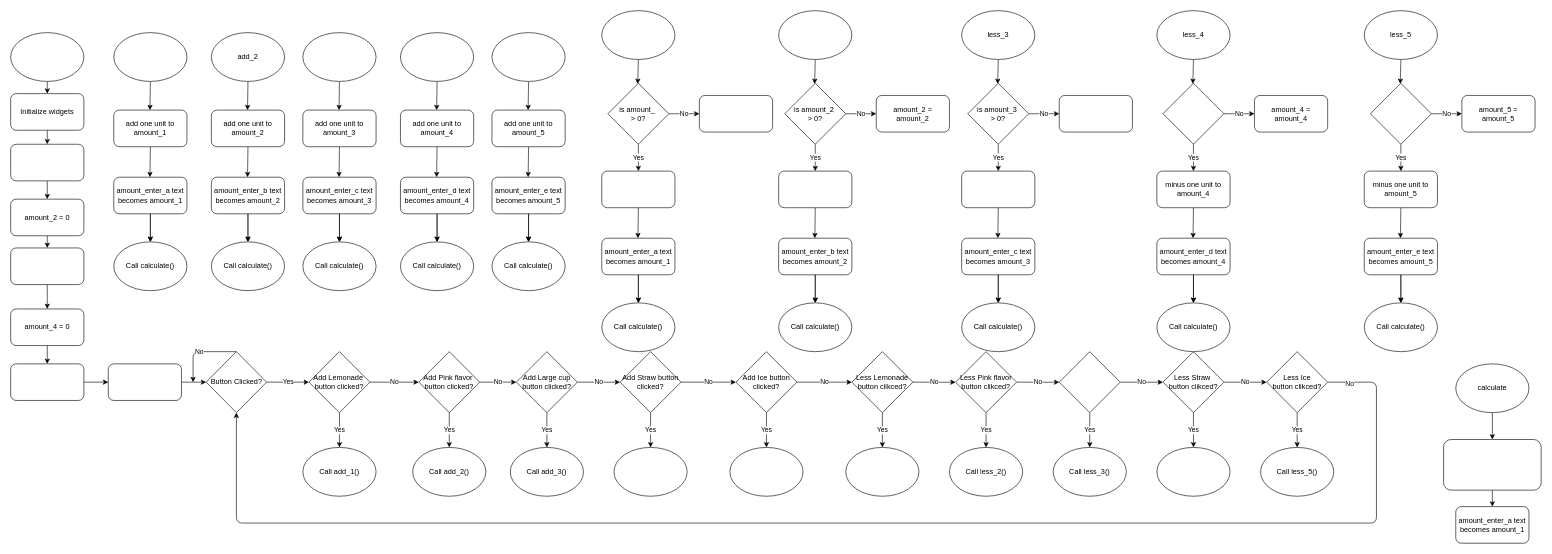
Some shapes in this 1552 by 554 pixel diagram are drawn without their labels. Here are the shapes that lost their labels. From the top down, the centre of each, then its label:
At pixel 638 34: "less_1".
At pixel 815 34: "less_2".
At pixel 47 56: "Start".
At pixel 150 56: "add_1".
At pixel 339 56: "add_3".
At pixel 437 56: "add_4".
At pixel 528 56: "add_5".
At pixel 736 113: "amount_ 1 = amount_1".
At pixel 1095 113: "amount_3 = amount_3".
At pixel 1193 113: "is amount_4 > 0?".
At pixel 1400 113: "is amount_5 > 0?".
At pixel 47 162: "amount_1 = 0".
At pixel 638 189: "minus one unit to amount_1".
At pixel 815 189: "minus one unit to amount_2".
At pixel 998 189: "minus one unit to amount_3".
At pixel 47 266: "amount_3 = 0".
At pixel 47 381: "amount_5 = 0".
At pixel 144 381: "total = 0".
At pixel 1089 382: "Less Large cup button clikced?".
At pixel 650 471: "Call add_4()".
At pixel 766 471: "Call add_5()".
At pixel 882 471: "Call less_1()".
At pixel 1193 471: "Call less_4()".
At pixel 1492 464: "total = amount_1 * 2 + amount_2 + amount_3 + amount_4 / 2 + amount_5 /2".
